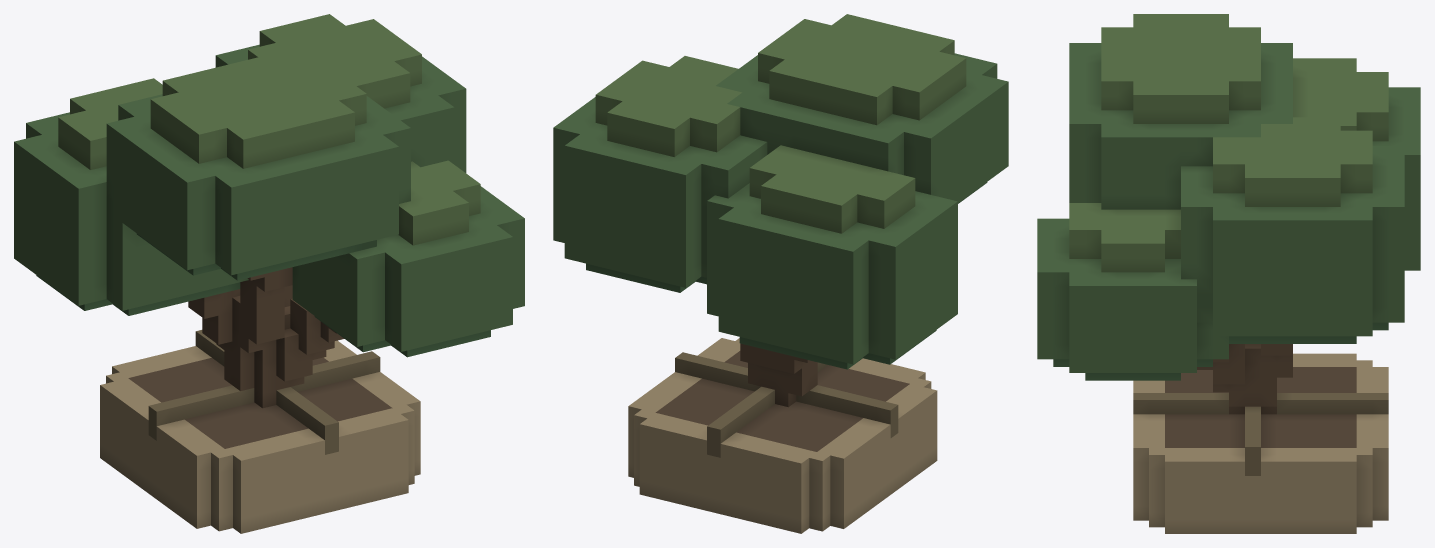
Rendered from blueberry_packed_summer_picked.glb.
3 views of the same model, side by side, from view 1: azimuth 30°, elevation 25°; view 2: azimuth 150°, elevation 25°; view 3: azimuth 270°, elevation 25° (orthographic). The views are drawn at different scales.
Visible parts, largest first — view 1: VoxelVisual; view 2: VoxelVisual; view 3: VoxelVisual.
Part boxes in pixels (x1,y1,x2,y2): VoxelVisual: (14, 14, 524, 533); VoxelVisual: (553, 14, 1008, 533); VoxelVisual: (1037, 14, 1420, 533).
Size of what is drawn, in the model's own units: 1.62 by 1.75 by 1.5.
